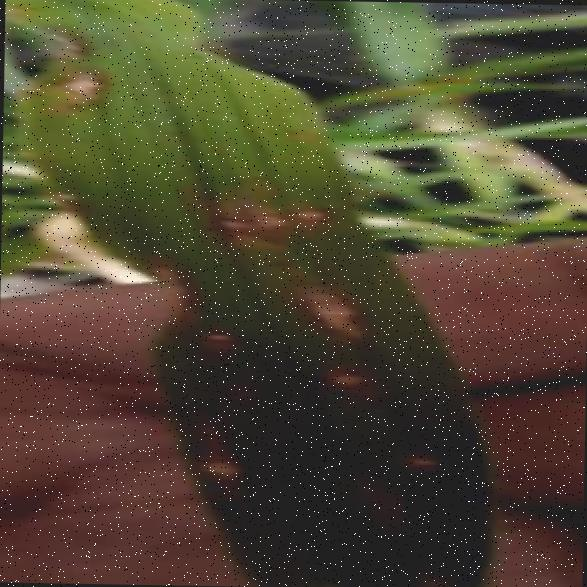Leaf_smut: (280, 260, 374, 350), (194, 186, 292, 254), (52, 52, 124, 120), (182, 434, 244, 492), (319, 356, 388, 398), (392, 436, 451, 482), (294, 178, 335, 242), (185, 315, 244, 353)
